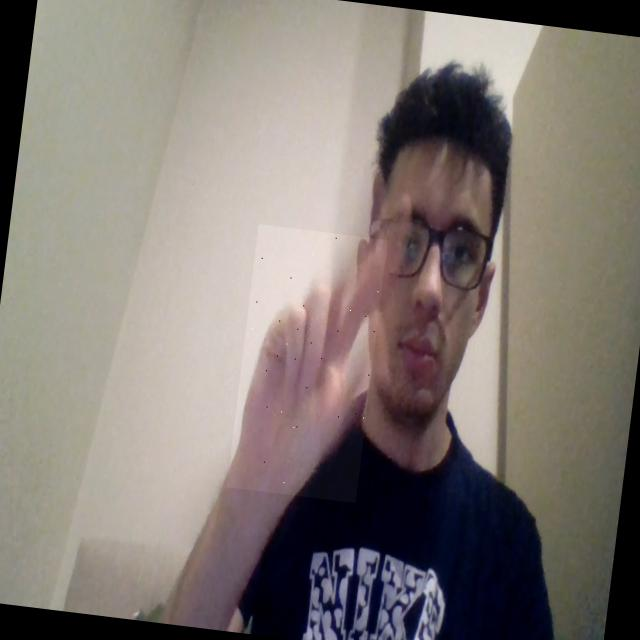no: (226, 223, 387, 502)
